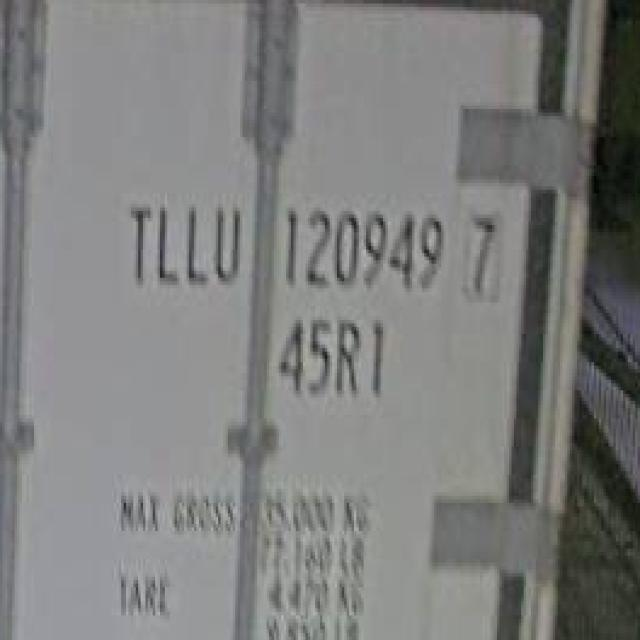dv: (458, 204, 505, 298)
owner: (118, 195, 244, 294)
serial: (274, 200, 447, 301)
size: (274, 308, 393, 404)
